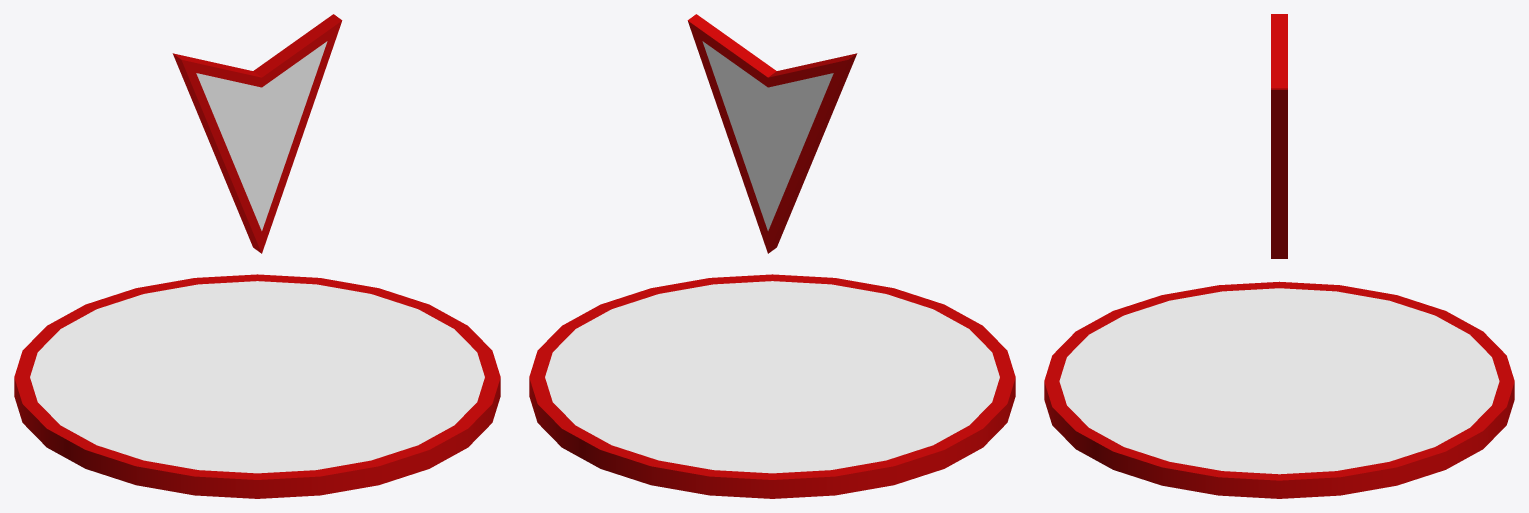
File: cursor_pointer_R.glb
3 renders of one model, left to right at view 1: azimuth 30°, elevation 25°; view 2: azimuth 150°, elevation 25°; view 3: azimuth 270°, elevation 25°, orthographic. The views are drawn at different scales.
Parts seen in each view (by area): view 1: cilindo.001, cursor; view 2: cilindo.001, cursor; view 3: cilindo.001, cursor.
Boxes of the visible parts, x1,y1,x2,y2 form: cilindo.001: (14,274,500,498); cursor: (172,14,342,253); cilindo.001: (529,274,1015,498); cursor: (687,14,857,253); cilindo.001: (1044,281,1514,498); cursor: (1271,14,1287,258).
Bounding box in the file's own units: 0.1527 × 0.1244 × 0.1527.
1 material, 1 textured.
